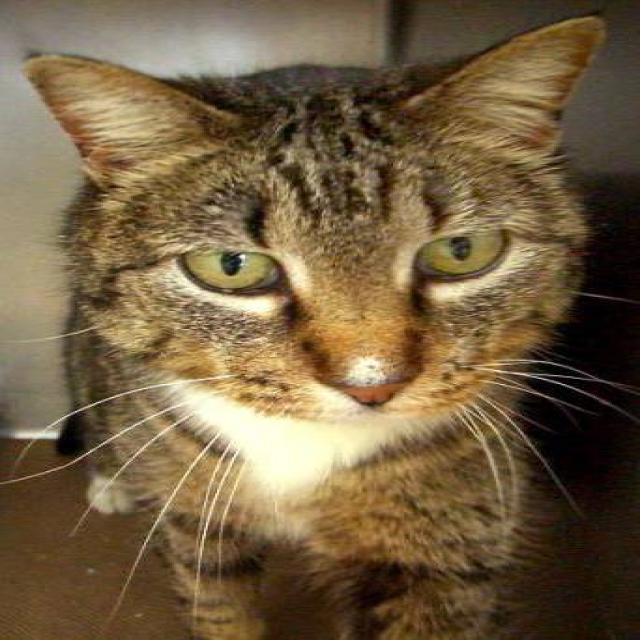cat: (0, 14, 638, 639)
